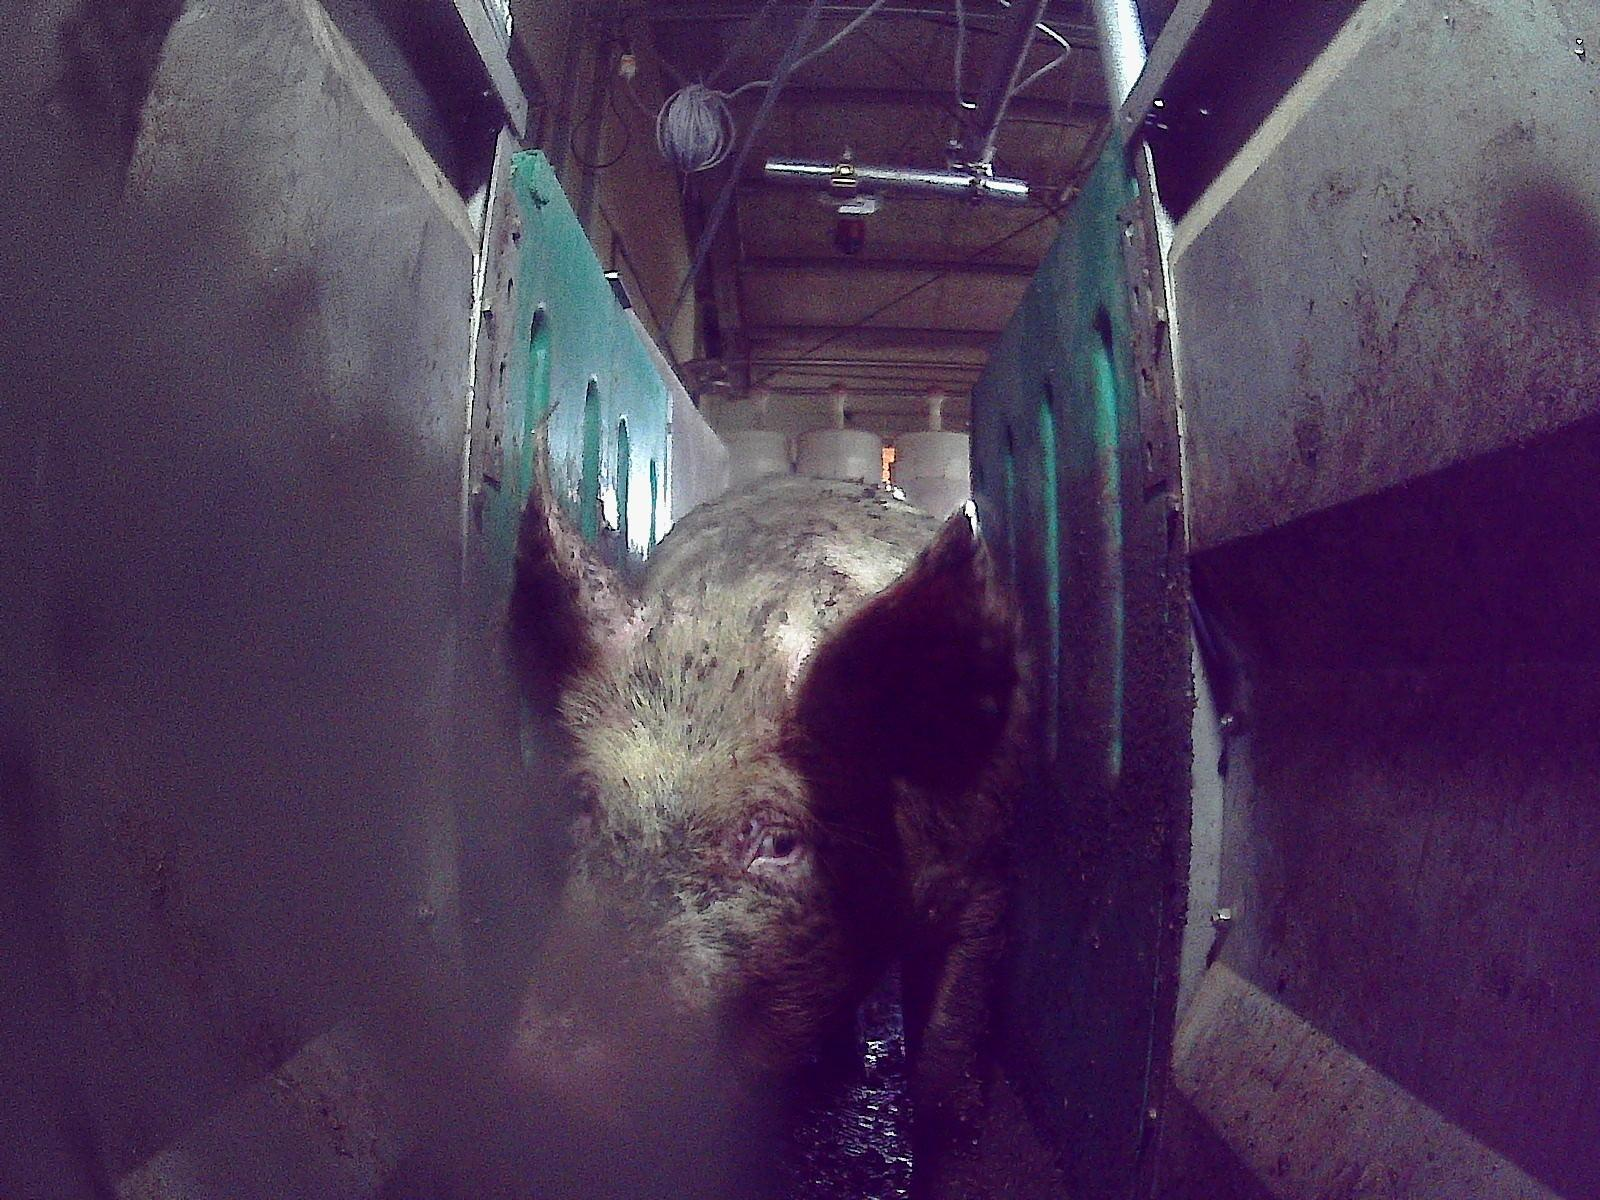Face: (506, 633, 855, 1146)
